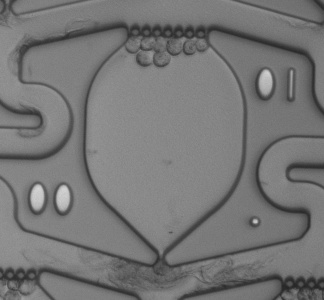AptNum: (247, 61, 307, 109)
Marker: (244, 212, 266, 233)
StNum: (17, 177, 81, 228)
Trap: (135, 257, 191, 300)
